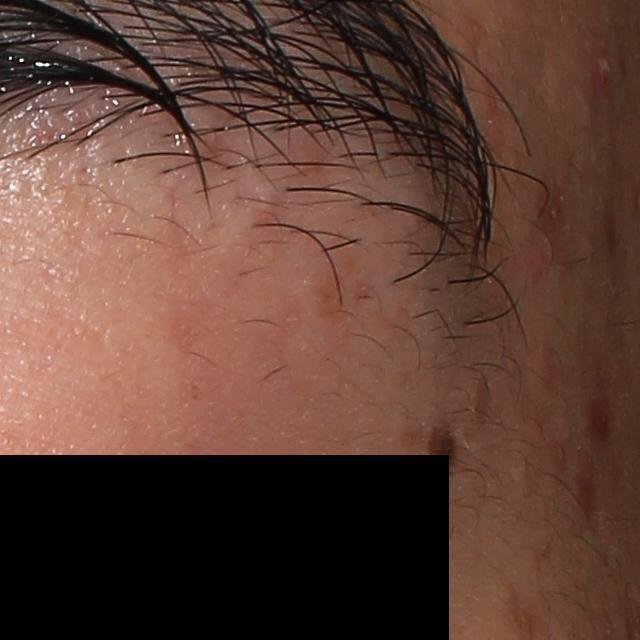nevus: (423, 424, 463, 479)
